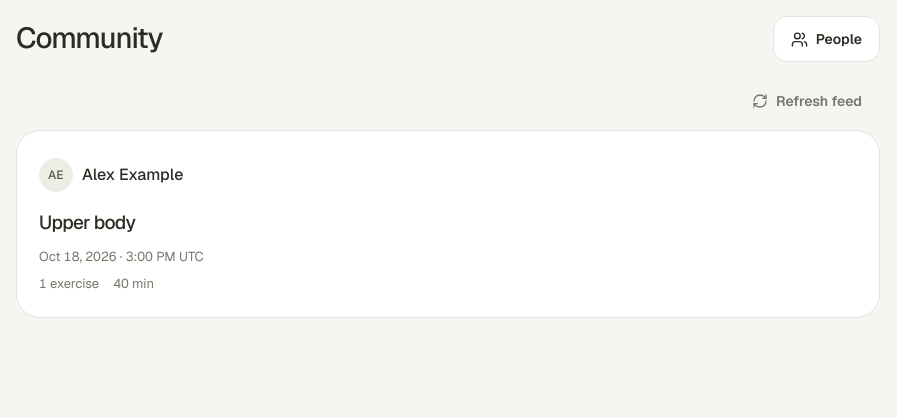
it: CommunityScreen › revalidates the feed when returning from a profile and exposes manual refresh
Expected: the heading "Upper body" is shown, [39, 210, 135, 235]
Click the button "AE Alex Example". click: (111, 175)
box: [39, 153, 183, 197]
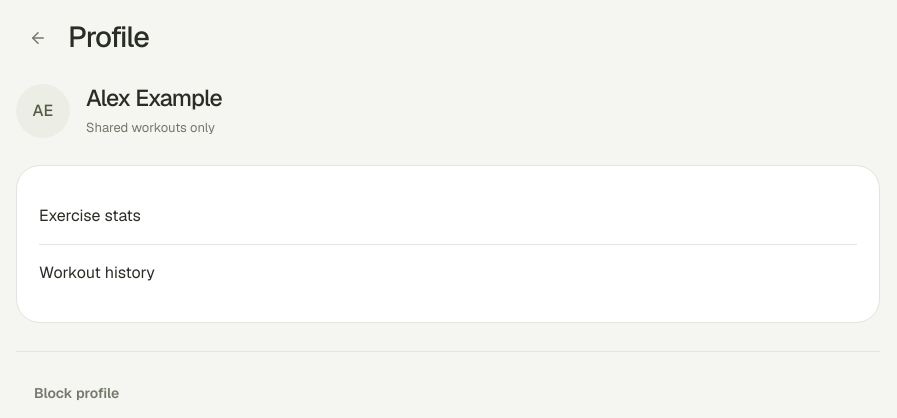
Expected: the text "Shared workouts only" is shown, [86, 118, 222, 138]
Click the button named "Back to previous view". click: (38, 38)
box: [16, 16, 60, 60]
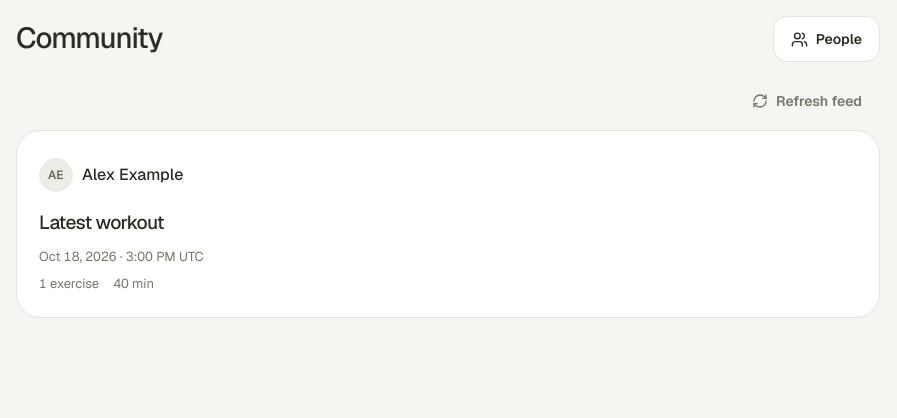
Expected: the heading "Latest workout" is shown, [39, 210, 164, 235]
Expected: the button "Refresh feed" is shown, [734, 78, 880, 124]
